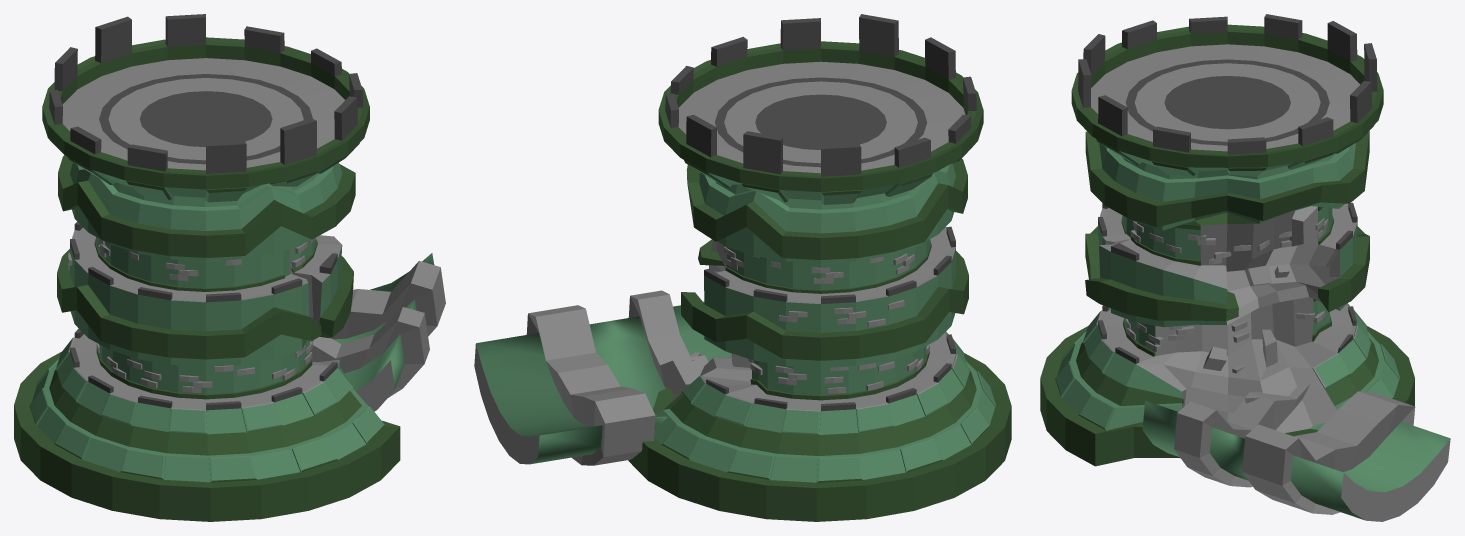
The model's file is Swamp_Structure_Boss_Tower.fbx.
3 renders of one model, left to right at view 1: azimuth 30°, elevation 25°; view 2: azimuth 150°, elevation 25°; view 3: azimuth 270°, elevation 25°, orthographic. The views are drawn at different scales.
Visible parts, largest first — view 1: Swamp_Boss_Tower, Swamp_Boss_Tower_Collapse; view 2: Swamp_Boss_Tower, Swamp_Boss_Tower_Collapse; view 3: Swamp_Boss_Tower, Swamp_Boss_Tower_Collapse.
Part boxes in pixels (x1,y1,x2,y2): Swamp_Boss_Tower: (14, 14, 400, 521); Swamp_Boss_Tower_Collapse: (310, 253, 445, 411); Swamp_Boss_Tower: (628, 14, 1011, 521); Swamp_Boss_Tower_Collapse: (474, 290, 731, 465); Swamp_Boss_Tower: (1040, 14, 1414, 466); Swamp_Boss_Tower_Collapse: (1142, 383, 1450, 521).
Size of the model in its own units: 109 by 86.93 by 89.44.
